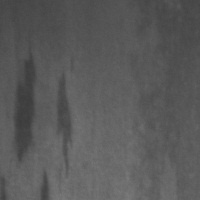inclusion: (9, 48, 39, 166), (54, 68, 79, 180), (35, 169, 53, 199)
